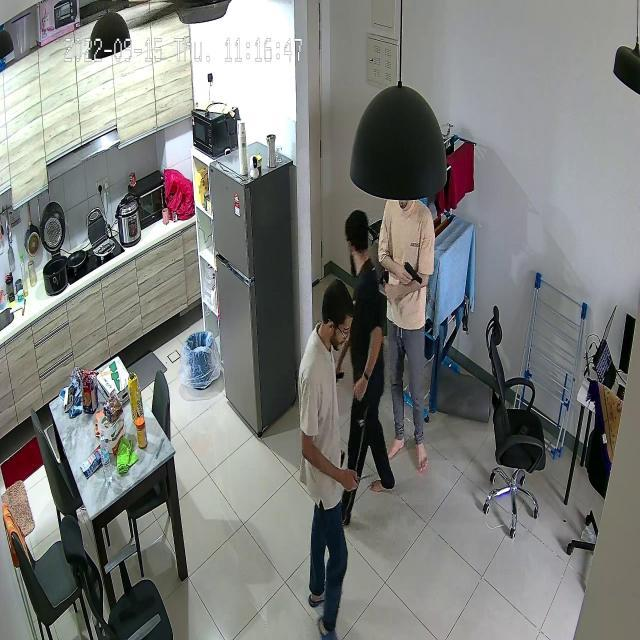Gun: (394, 252, 424, 294)
